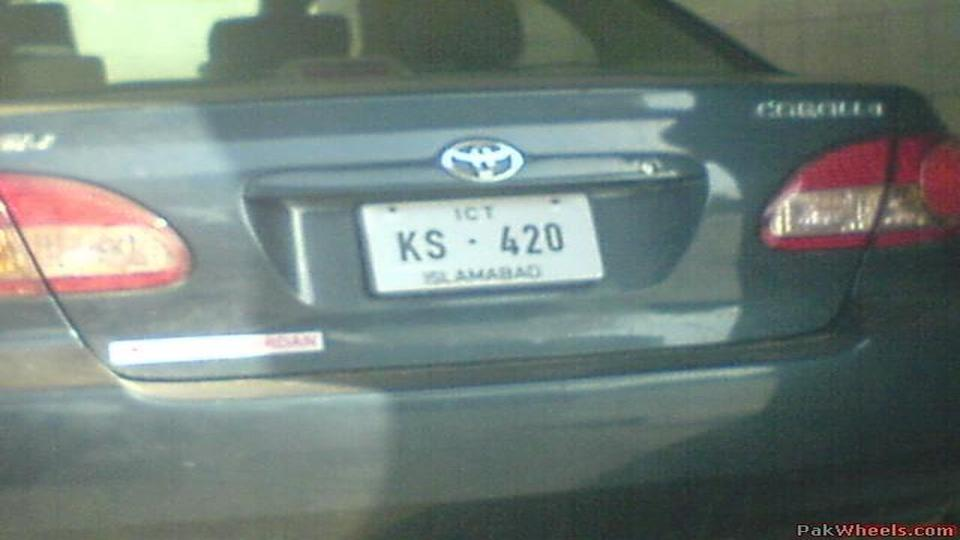NumberPlate: (349, 202, 626, 280)
